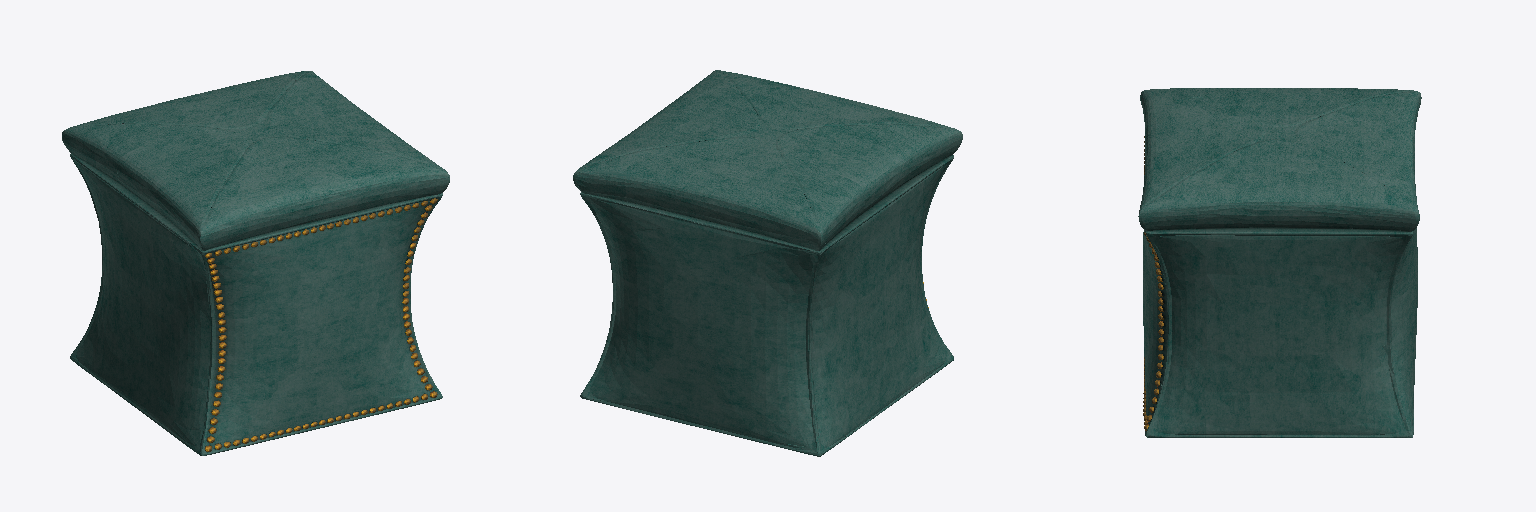
3 views of the same model, side by side, from view 1: azimuth 30°, elevation 25°; view 2: azimuth 150°, elevation 25°; view 3: azimuth 270°, elevation 25° (orthographic).
Parts seen in each view (by area): view 1: solid_001, solid_002; view 2: solid_001; view 3: solid_001, solid_002.
Boxes of the visible parts, <box> form: solid_001: <box>62,71,449,455</box>; solid_002: <box>205,198,437,451</box>; solid_001: <box>573,70,962,456</box>; solid_001: <box>1138,88,1421,437</box>; solid_002: <box>1143,136,1163,430</box>.
Size of the model in its own units: 1.39 by 1.31 by 1.36.
1 materials, 1 textured.